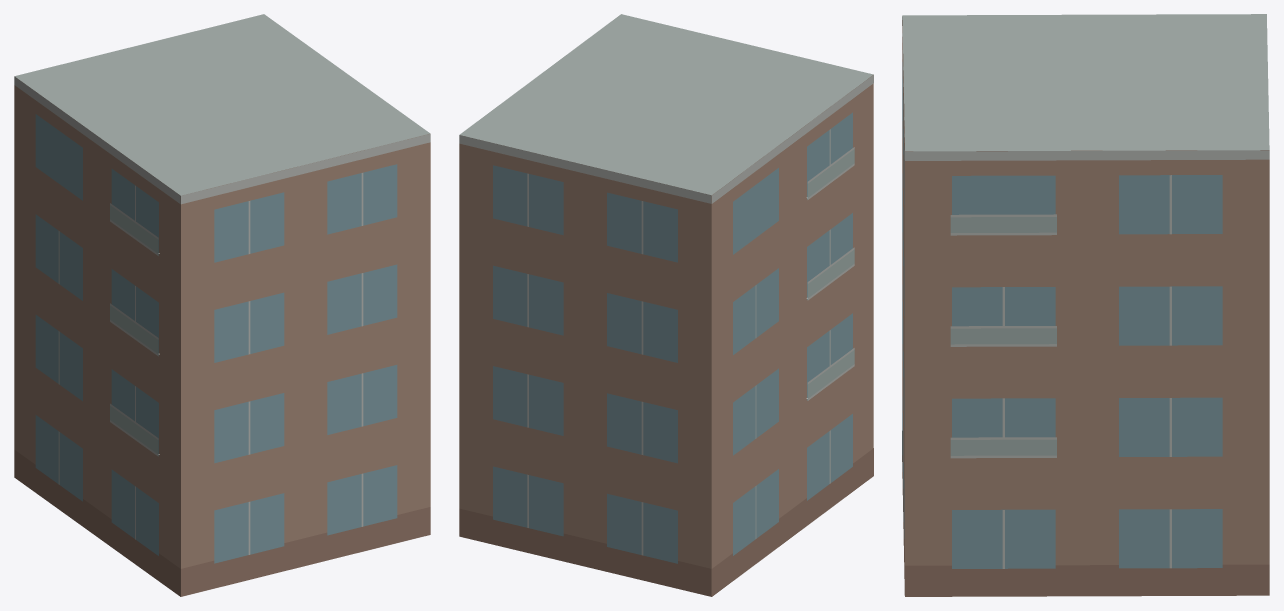
Rendered from survey-upis-32714867.glb.
3 renders of one model, left to right at view 1: azimuth 30°, elevation 25°; view 2: azimuth 150°, elevation 25°; view 3: azimuth 270°, elevation 25°, orthographic. The views are drawn at different scales.
Parts seen in each view (by area): view 1: survey-upis-32714867.tmp; view 2: survey-upis-32714867.tmp; view 3: survey-upis-32714867.tmp.
Part boxes in pixels (x1,y1,x2,y2): survey-upis-32714867.tmp: (14,14,430,596); survey-upis-32714867.tmp: (459,14,873,596); survey-upis-32714867.tmp: (902,14,1269,596).
Size of the model in its own units: 7.47 by 11.25 by 8.42.
